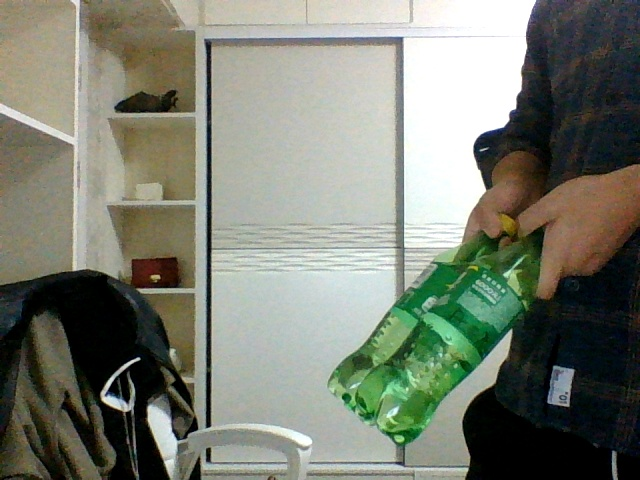Sprite: (354, 237, 545, 446), (327, 214, 514, 407)
